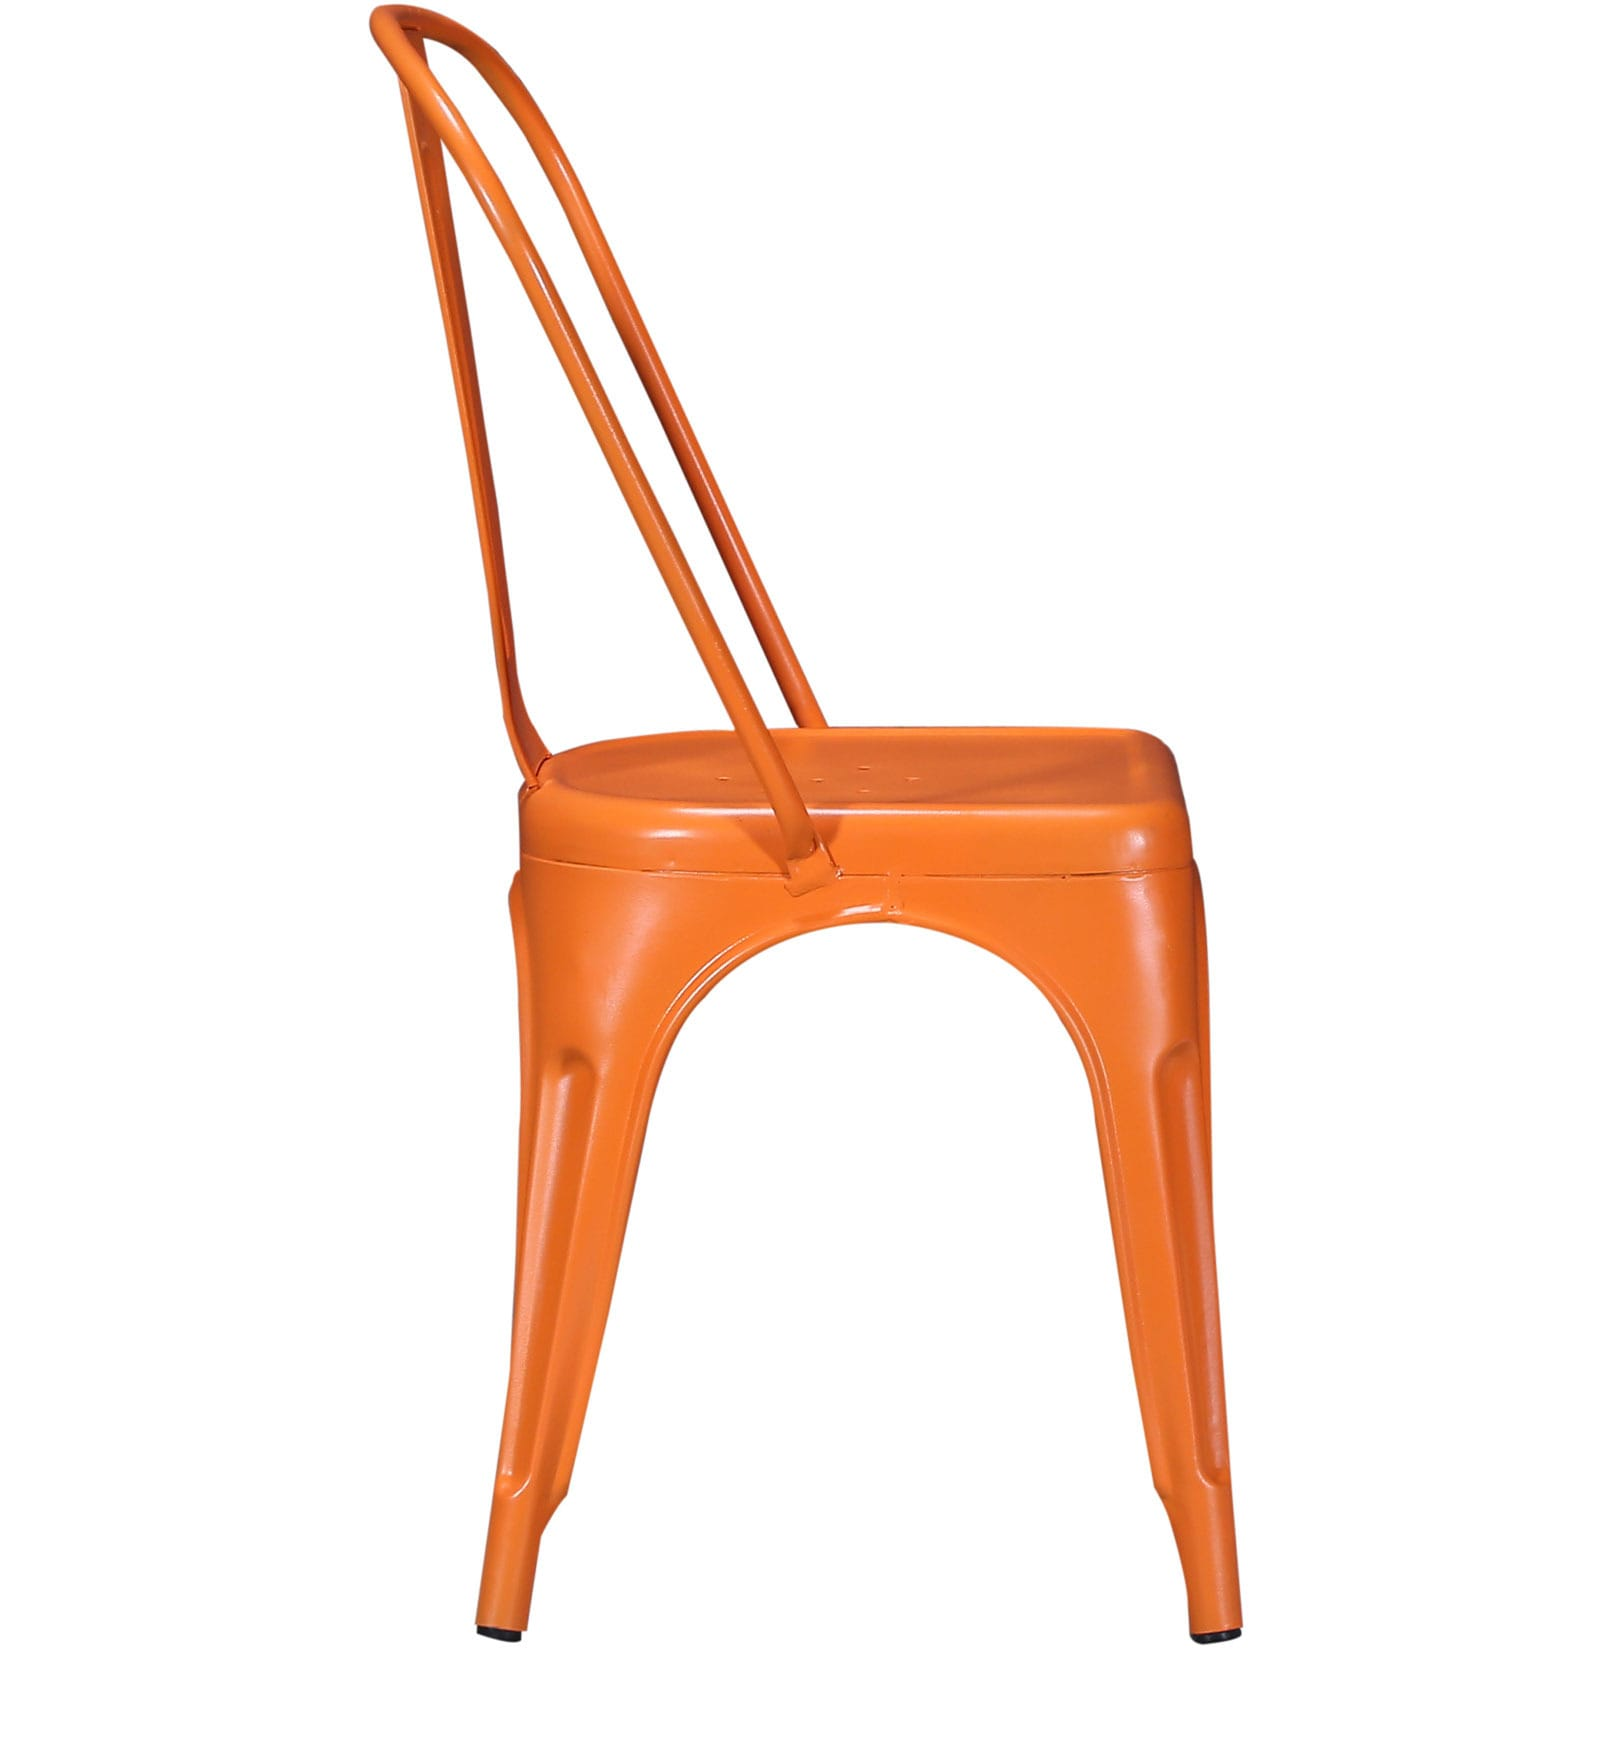Ekati Metal Chair in Orange Color with Eyelet by Bohemiana: (296, 5, 1309, 1717)
